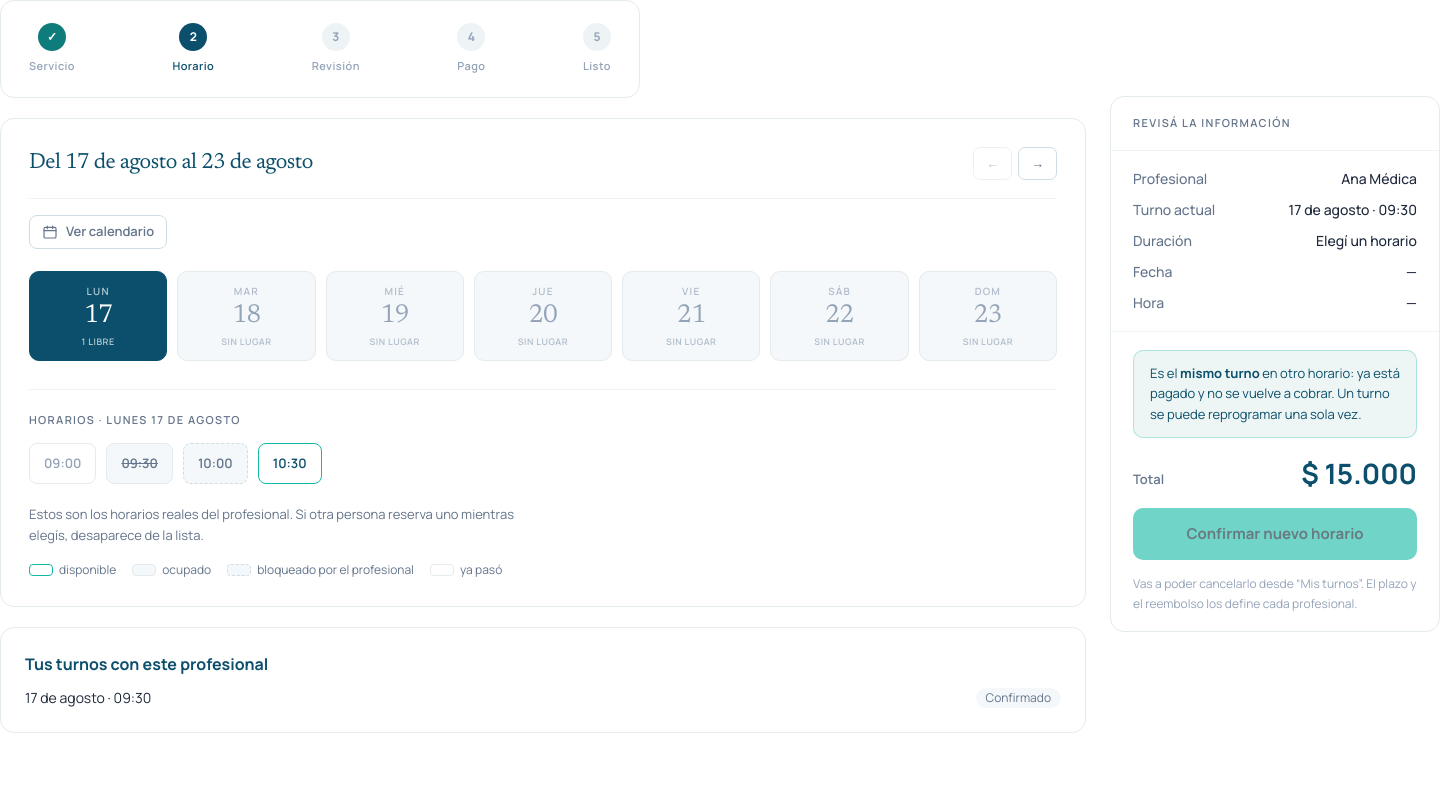
BookAppointment › reprogramar (ENG-66) › muestra el motivo del backend si no se puede reprogramar
Click the button labelled "10:30" at [290, 463], box [258, 442, 322, 484]
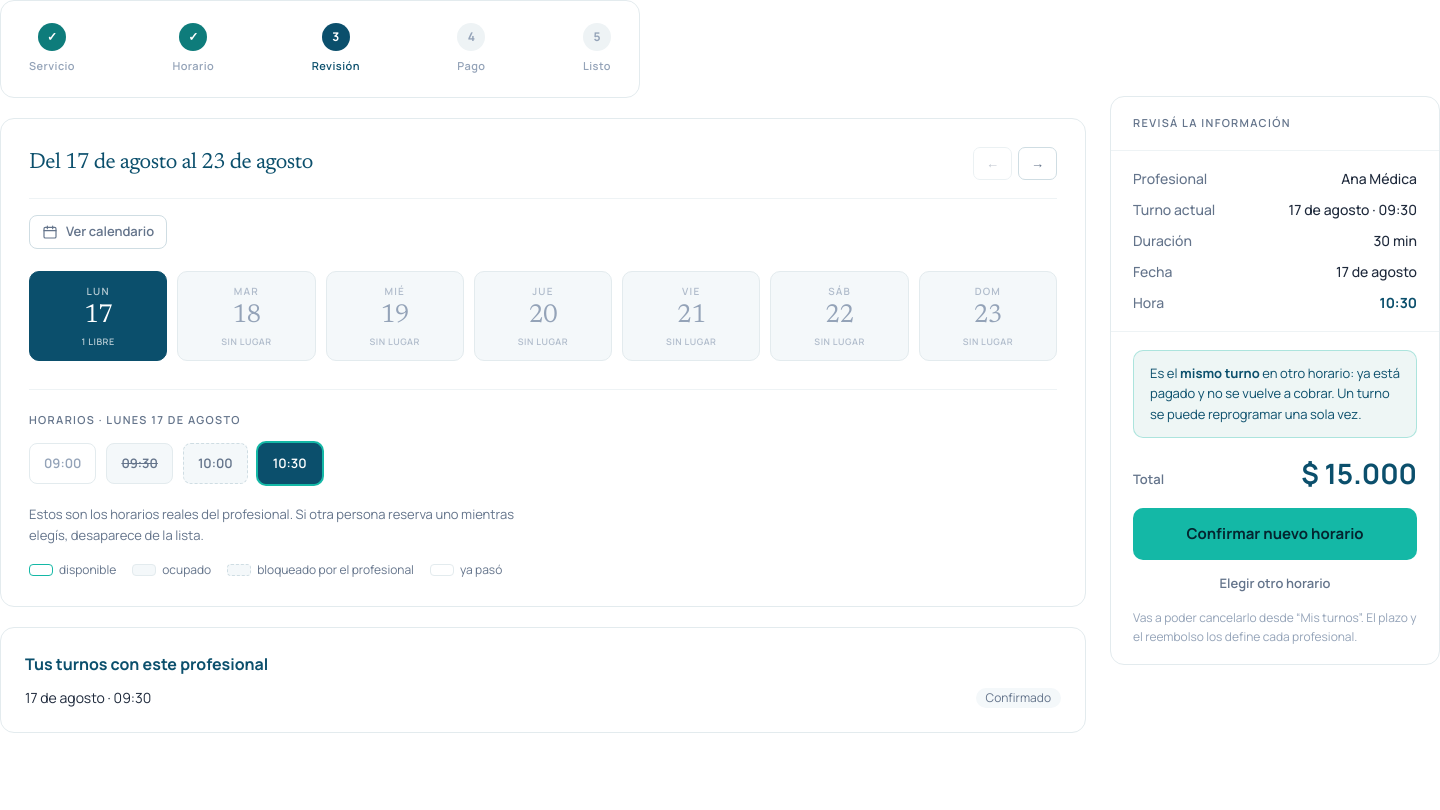
Click the button "Confirmar nuevo horario" at [1275, 534], box [1133, 508, 1417, 560]
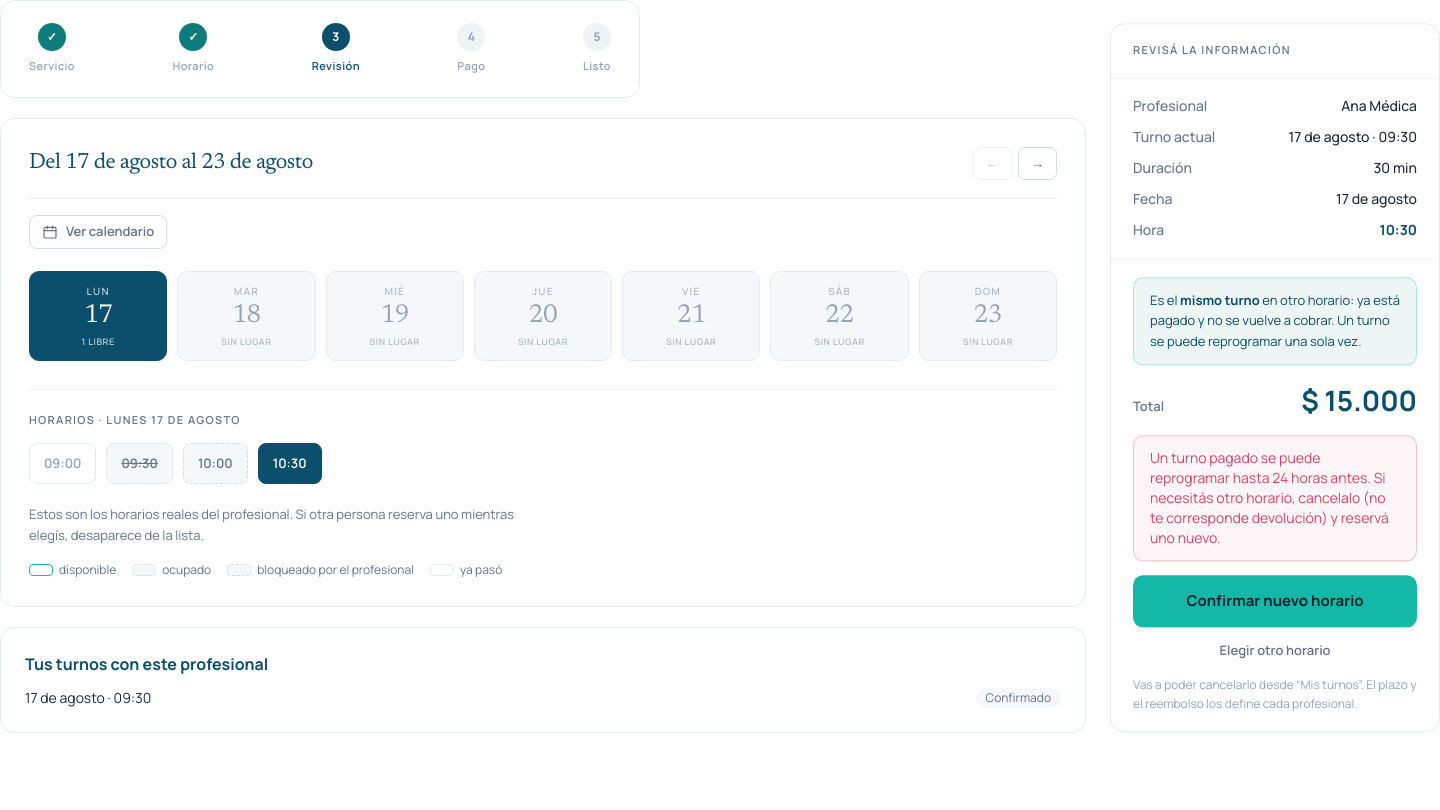
Expected: the message shows "hasta 24 horas antes", [1150, 448, 1389, 547]
